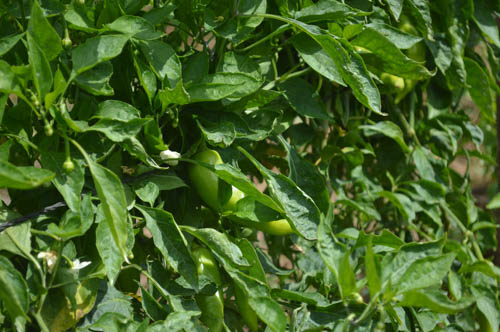ChiliPepper: (192, 151, 299, 236), (190, 246, 222, 321)
